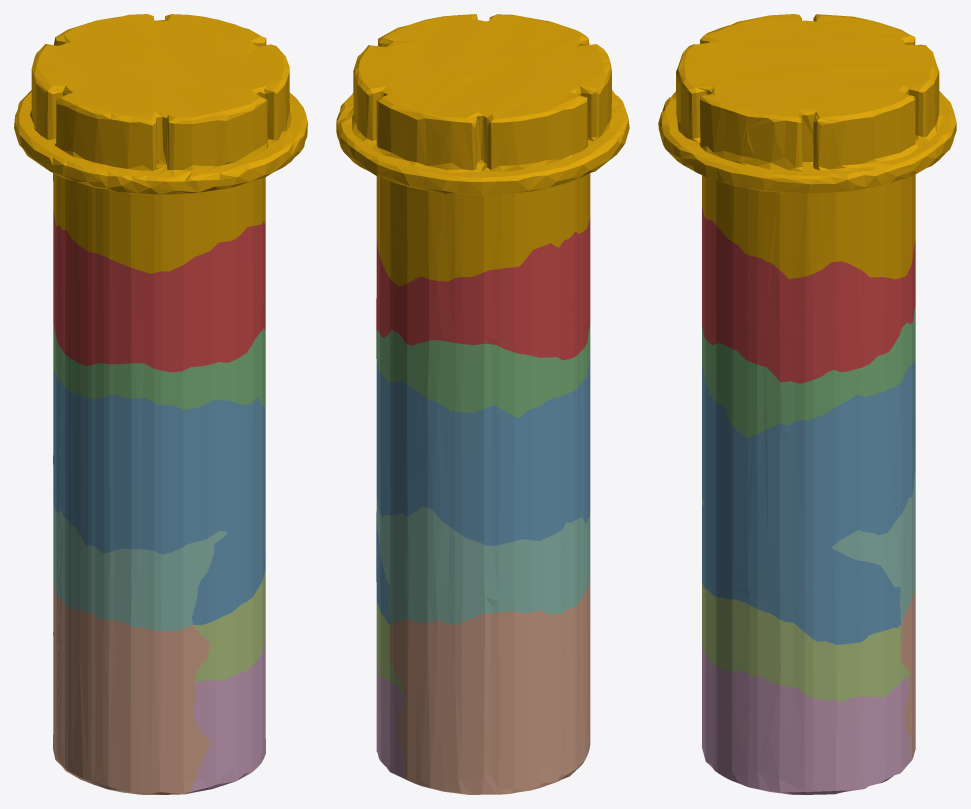
File: fractured_59_8pcs.glb
3 views of the same model, side by side, from view 1: azimuth 30°, elevation 25°; view 2: azimuth 150°, elevation 25°; view 3: azimuth 270°, elevation 25° (orthographic).
Parts seen in each view (by area): view 1: piece_0.obj, piece_2.obj, piece_7.obj, piece_1.obj, piece_4.obj, piece_3.obj, piece_6.obj, piece_5.obj; view 2: piece_0.obj, piece_7.obj, piece_2.obj, piece_4.obj, piece_1.obj, piece_3.obj, piece_6.obj, piece_5.obj; view 3: piece_0.obj, piece_2.obj, piece_1.obj, piece_6.obj, piece_5.obj, piece_3.obj, piece_4.obj, piece_7.obj.
Boxes of the visible parts, <box> form: piece_0.obj: <box>14,14,307,273</box>; piece_2.obj: <box>53,369,265,625</box>; piece_7.obj: <box>53,578,211,794</box>; piece_1.obj: <box>53,212,265,372</box>; piece_4.obj: <box>53,506,227,630</box>; piece_3.obj: <box>53,324,265,409</box>; piece_6.obj: <box>189,641,265,793</box>; piece_5.obj: <box>193,571,265,682</box>; piece_0.obj: <box>336,14,629,286</box>; piece_7.obj: <box>390,579,590,794</box>; piece_2.obj: <box>376,354,590,624</box>; piece_4.obj: <box>376,496,590,624</box>; piece_1.obj: <box>376,218,590,360</box>; piece_3.obj: <box>376,323,590,418</box>; piece_6.obj: <box>376,661,405,779</box>; piece_5.obj: <box>376,603,403,695</box>; piece_0.obj: <box>658,14,956,279</box>; piece_2.obj: <box>702,360,915,644</box>; piece_1.obj: <box>702,207,915,383</box>; piece_6.obj: <box>702,645,910,794</box>; piece_5.obj: <box>702,583,909,702</box>; piece_3.obj: <box>702,303,915,437</box>; piece_4.obj: <box>702,471,915,623</box>; piece_7.obj: <box>900,586,915,760</box>.
Bounding box in the file's own units: 0.3863 × 1 × 0.3933.
